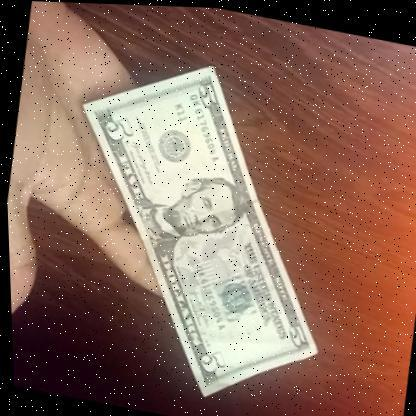five-front: (33, 36, 360, 416)
